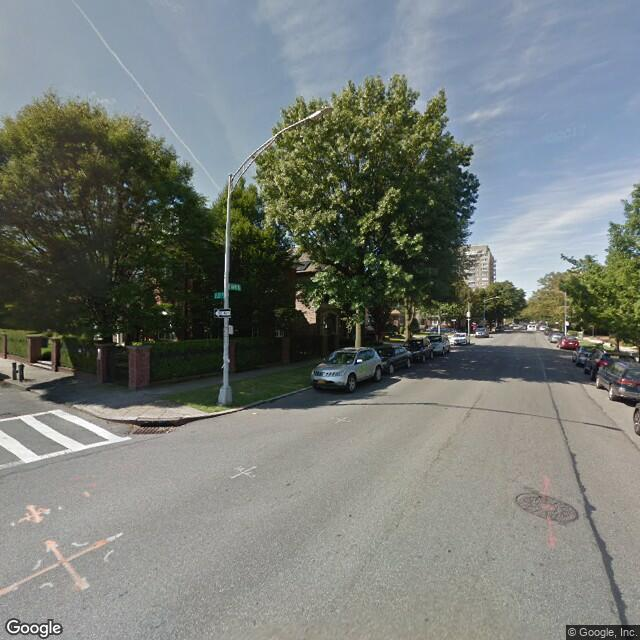litter: (251, 410, 257, 417)
